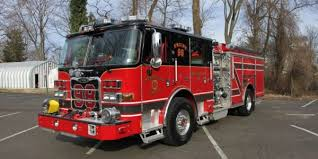special: (38, 17, 267, 149)
